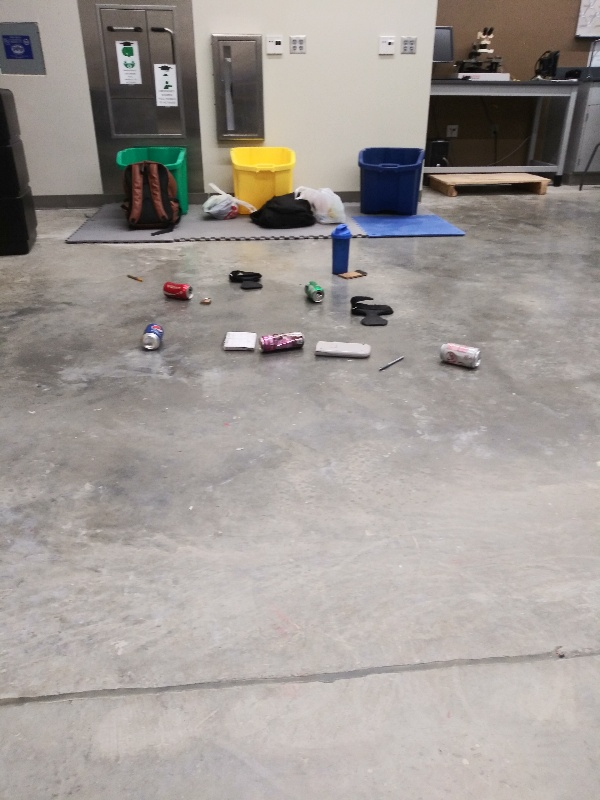can: (435, 338, 485, 369), (255, 329, 309, 355), (138, 320, 167, 353), (161, 278, 195, 301), (301, 279, 329, 306)
